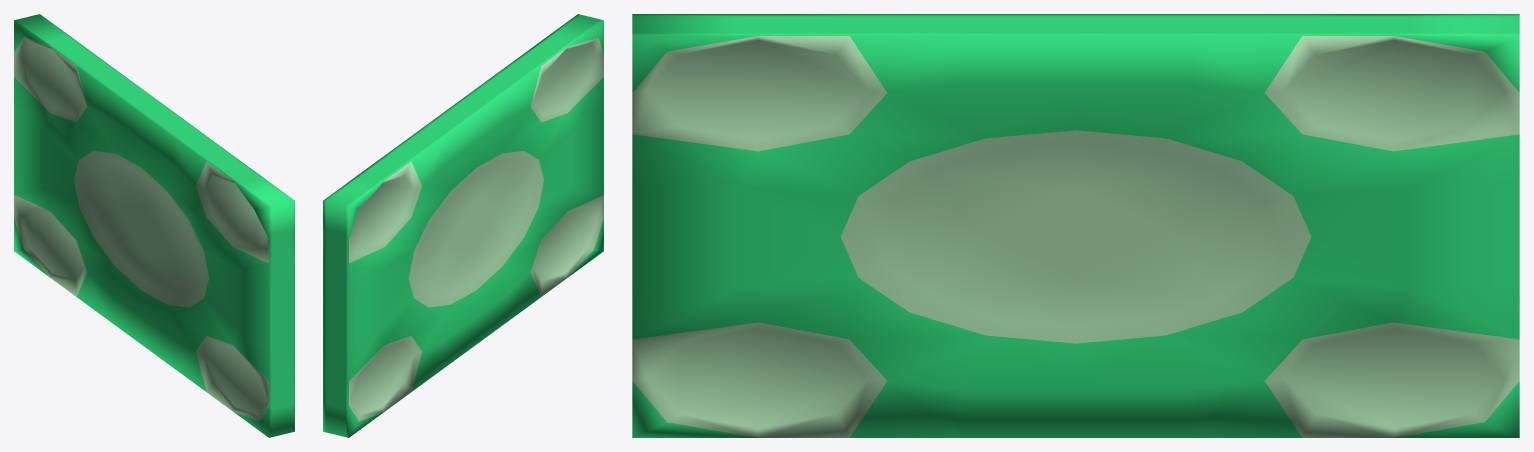
The model's file is DollarBill.fbx.
3 views of the same model, side by side, from view 1: azimuth 30°, elevation 25°; view 2: azimuth 150°, elevation 25°; view 3: azimuth 270°, elevation 25° (orthographic). The views are drawn at different scales.
Parts seen in each view (by area): view 1: DollarBill; view 2: DollarBill; view 3: DollarBill.
Part boxes in pixels (x1,y1,x2,y2): DollarBill: (14,14,294,437); DollarBill: (323,14,603,437); DollarBill: (632,14,1519,437).
Bounding box in the file's own units: 0.3209 × 2.32 × 4.63.
